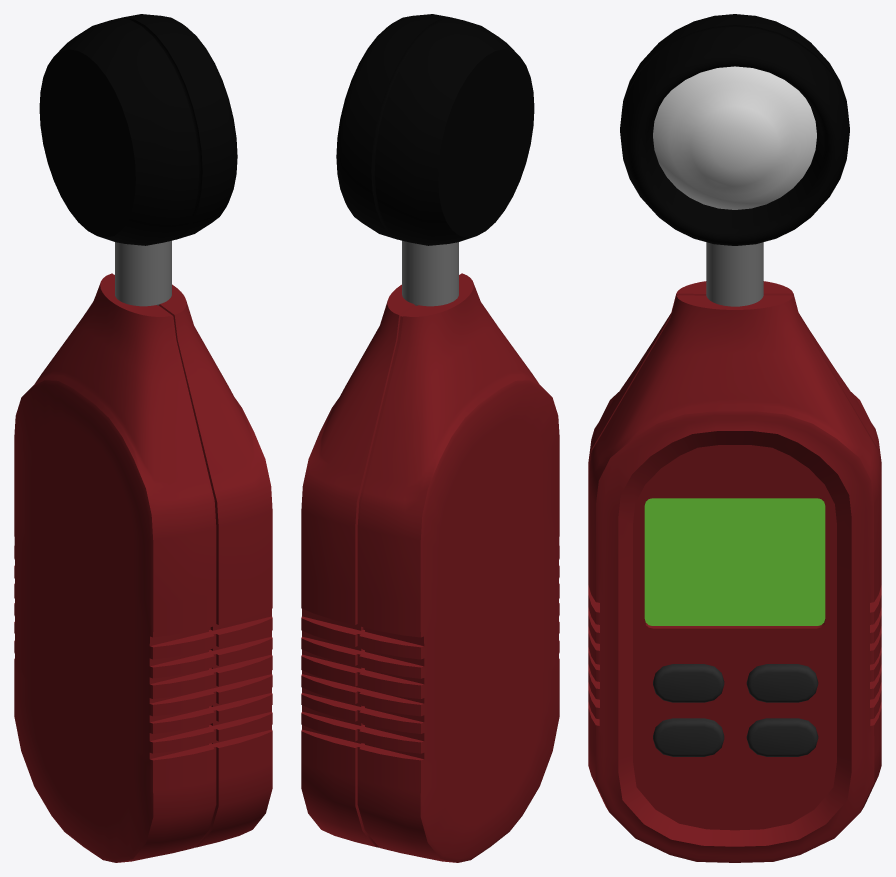
File: Люксометр.fbx
The picture shows the model from 3 angles, left to right: view 1: azimuth 30°, elevation 25°; view 2: azimuth 150°, elevation 25°; view 3: azimuth 270°, elevation 25°; orthographic projection.
Parts seen in each view (by area): view 1: Корпус люксометра.001, Датчик.001; view 2: Корпус люксометра.001, Датчик.001; view 3: Корпус люксометра.001, Датчик.001, 4 Кнопка hold.001, 2 Кнопка lux fc.001, 3 Кнопка max min.001, 1 Кнопка Включение.001.
Boxes of the visible parts, x1=… form: Корпус люксометра.001: x1=14, y1=240, x2=272, y2=862; Датчик.001: x1=39, y1=14, x2=237, y2=245; Корпус люксометра.001: x1=301, y1=240, x2=559, y2=862; Датчик.001: x1=336, y1=14, x2=534, y2=245; Корпус люксометра.001: x1=588, y1=242, x2=881, y2=862; Датчик.001: x1=620, y1=14, x2=849, y2=245; 4 Кнопка hold.001: x1=746, y1=718, x2=818, y2=756; 2 Кнопка lux fc.001: x1=746, y1=664, x2=818, y2=702; 3 Кнопка max min.001: x1=653, y1=718, x2=724, y2=756; 1 Кнопка Включение.001: x1=653, y1=664, x2=724, y2=702.
Size of the model in its own units: 0.0249 by 0.1525 by 0.0501.
